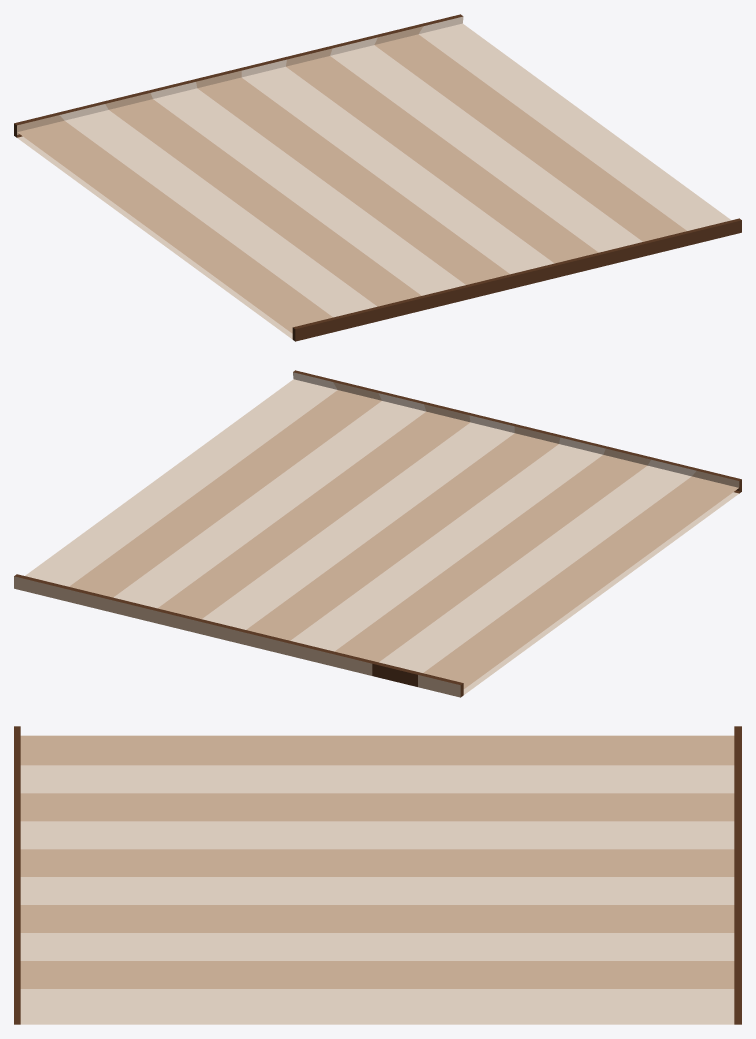
File: Zemin.fbx
The picture shows the model from 3 angles, top to bottom: view 1: azimuth 30°, elevation 25°; view 2: azimuth 150°, elevation 25°; view 3: azimuth 270°, elevation 25°; orthographic projection. The views are drawn at different scales.
Parts seen in each view (by area): view 1: Cube.001; view 2: Cube.001; view 3: Cube.001.
Boxes of the visible parts, left/top/right/bottom form: Cube.001: left=14, top=14, right=741, bottom=341; Cube.001: left=14, top=370, right=741, bottom=697; Cube.001: left=14, top=726, right=741, bottom=1024.
Bounding box in the file's own units: 776 × 20.57 × 846.
